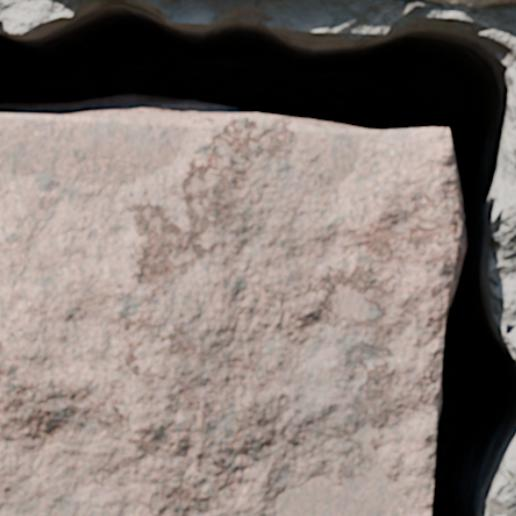brick: (0, 115, 465, 515), (430, 0, 515, 6)
crack: (0, 1, 515, 515)
